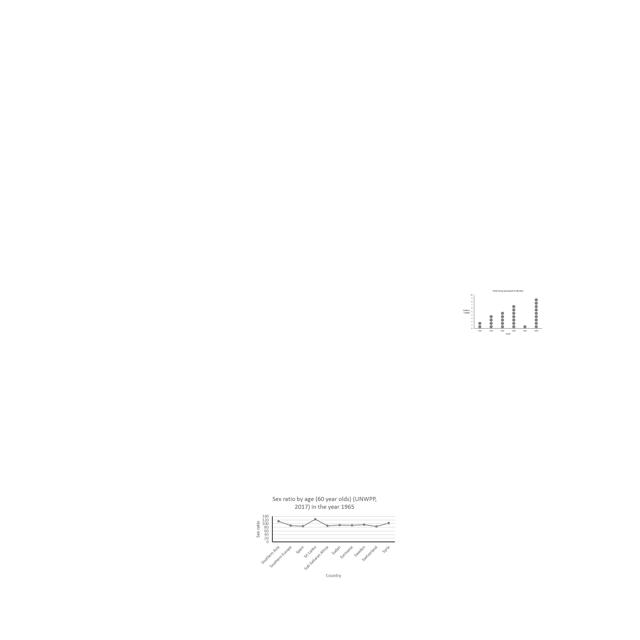Graph: (251, 492, 398, 579), (460, 288, 544, 337)
